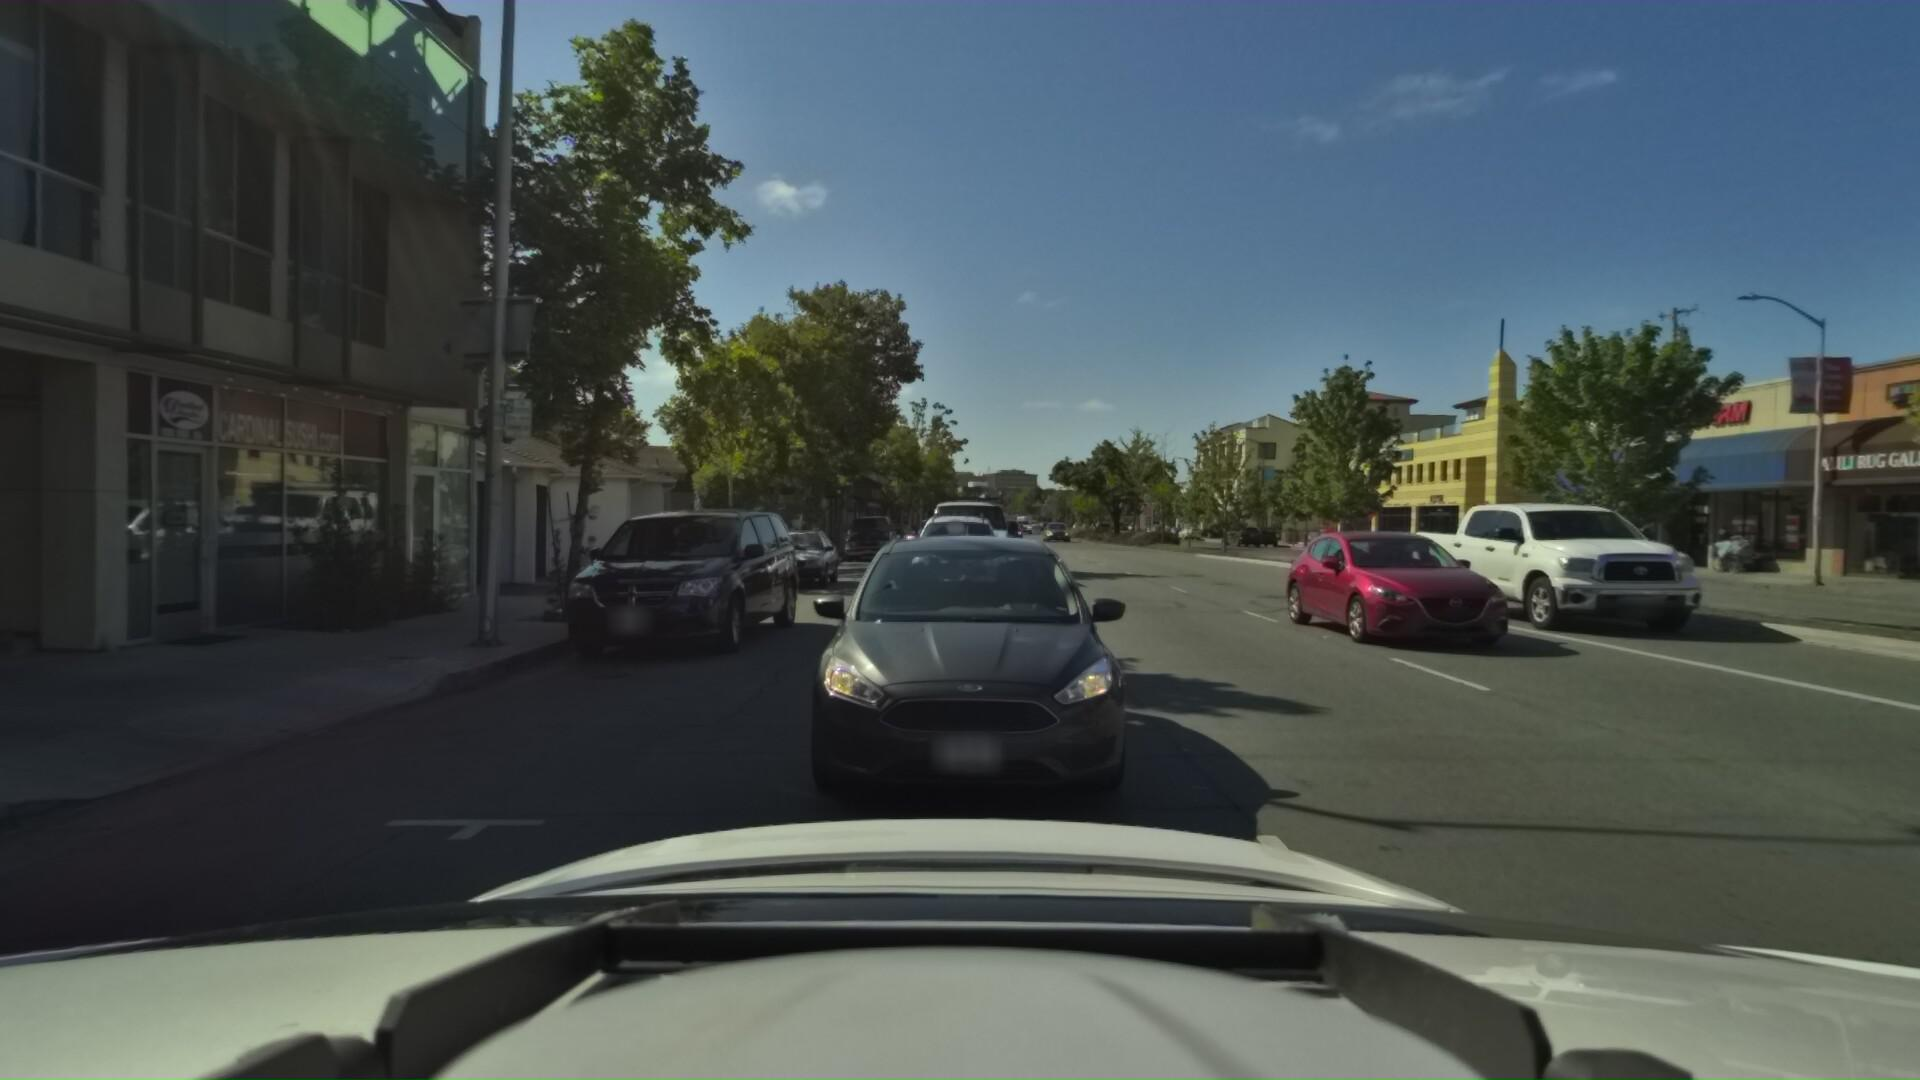car: (779, 517, 1160, 844), (1400, 480, 1721, 636), (534, 495, 808, 667), (1276, 522, 1540, 657), (901, 506, 1007, 605), (920, 473, 1015, 575), (757, 521, 843, 589), (840, 509, 905, 560), (1221, 516, 1261, 541), (1245, 520, 1280, 542), (1002, 514, 1031, 541), (1044, 520, 1073, 542)
